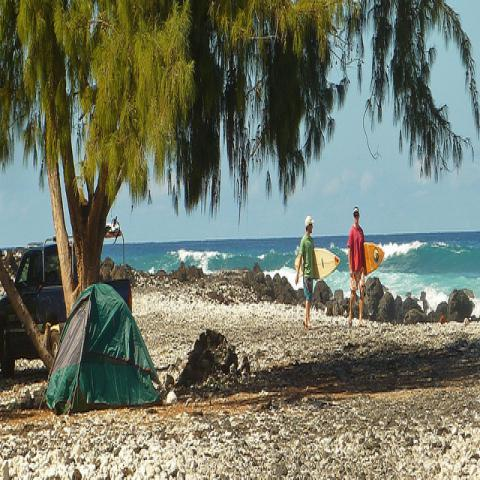truck: (0, 237, 135, 377)
